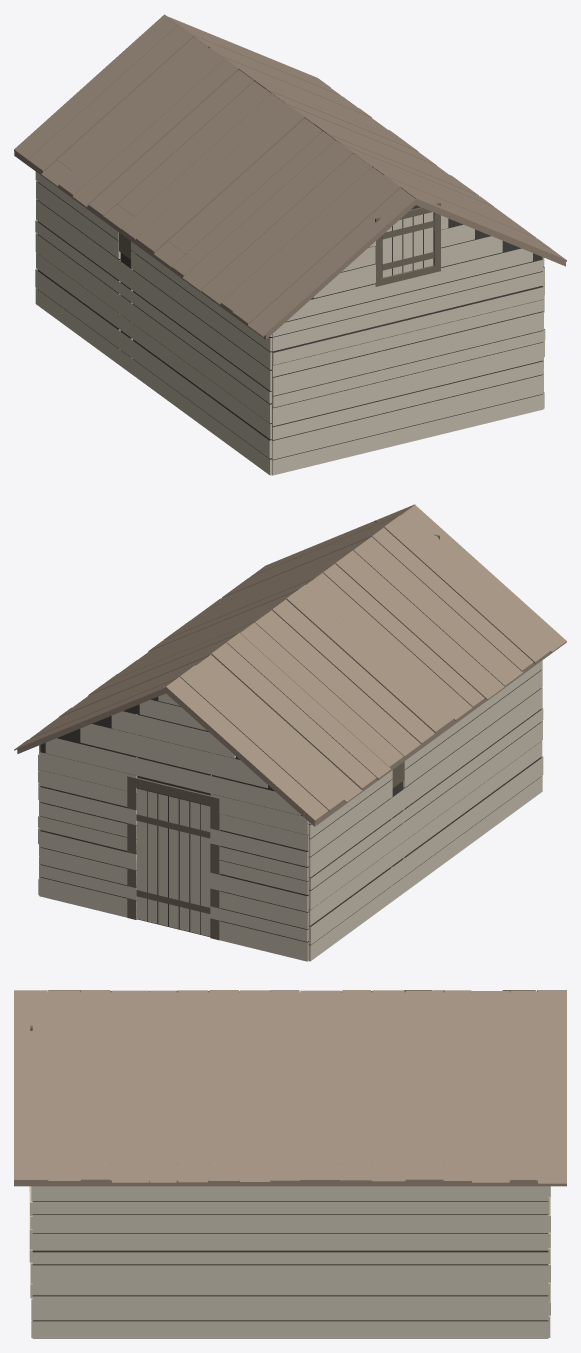
Rendered from recon_1835_west_010__inferred_1835.glb.
3 views of the same model, one above another, from view 1: azimuth 30°, elevation 25°; view 2: azimuth 150°, elevation 25°; view 3: azimuth 270°, elevation 25° (orthographic). The views are drawn at different scales.
Visible parts, largest first — view 1: recon_1835_west_010__inferred_1835; view 2: recon_1835_west_010__inferred_1835; view 3: recon_1835_west_010__inferred_1835.
Part boxes in pixels (box(x1,y1,x2,y2)): recon_1835_west_010__inferred_1835: box(14, 14, 566, 475); recon_1835_west_010__inferred_1835: box(14, 504, 566, 961); recon_1835_west_010__inferred_1835: box(14, 990, 566, 1338).
Size of the model in its own units: 5.53 by 4.31 by 7.85.
